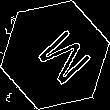M_SW: (22, 21, 88, 89)
